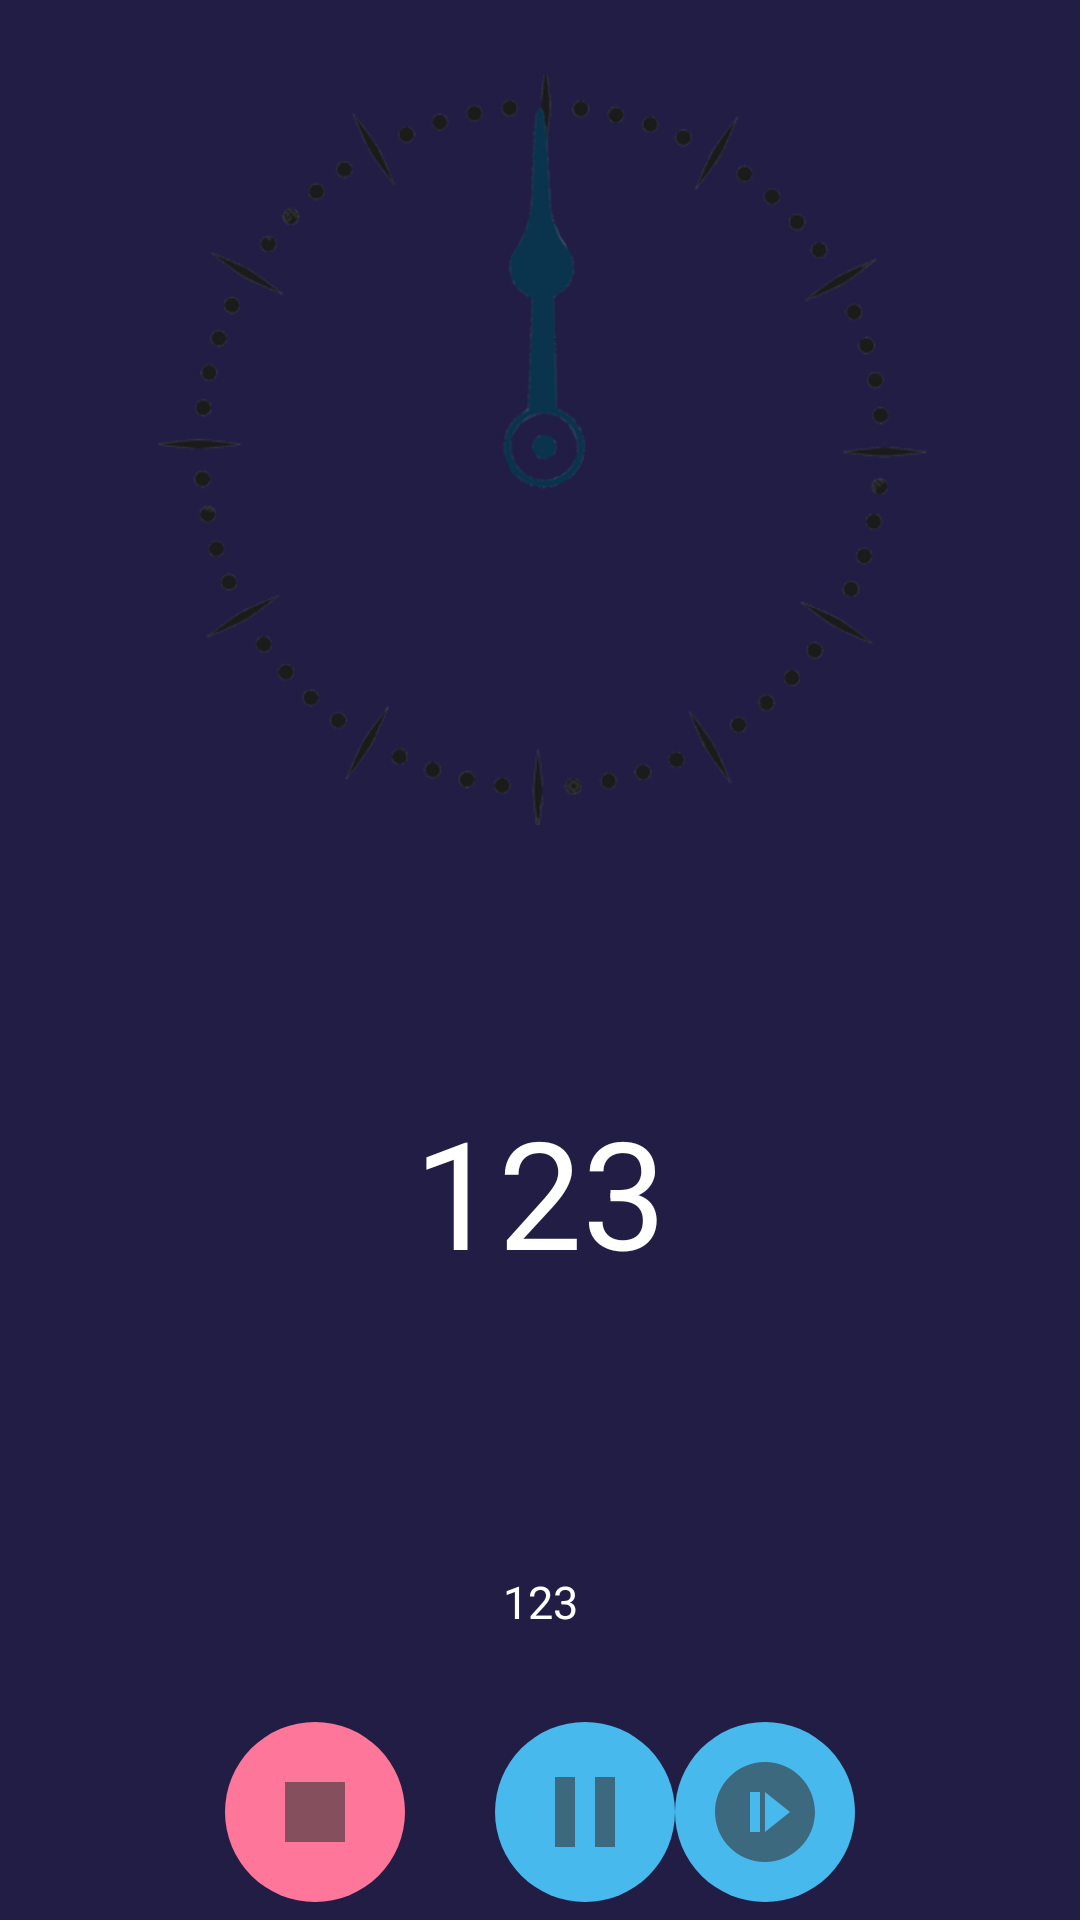

Icons on this 1080*1920 Android screen, each with the point to tap as point (x, y):
pause: point (585, 1812)
start: point (765, 1812)
stop: point (315, 1812)
